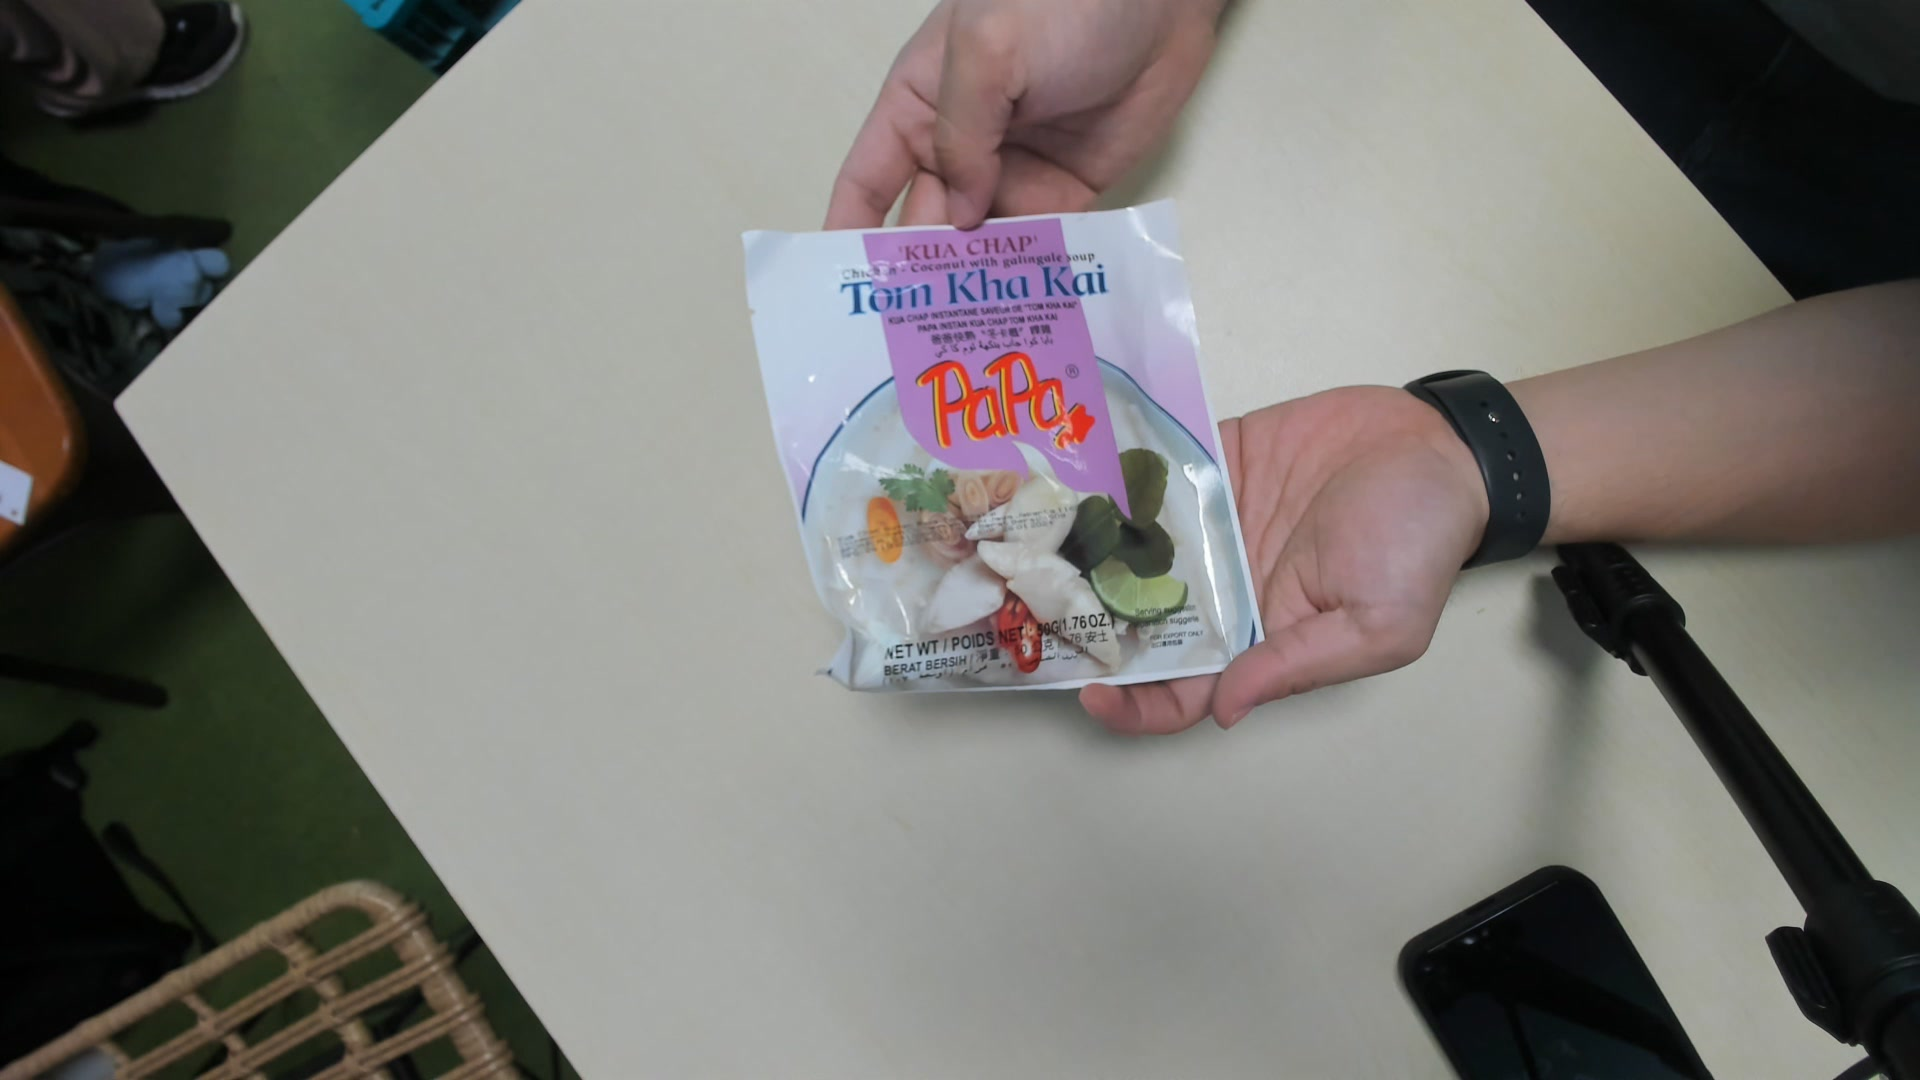OtherSauceDressing_0-99g_NonHalal_NonHealthy: (738, 204, 1276, 695)
